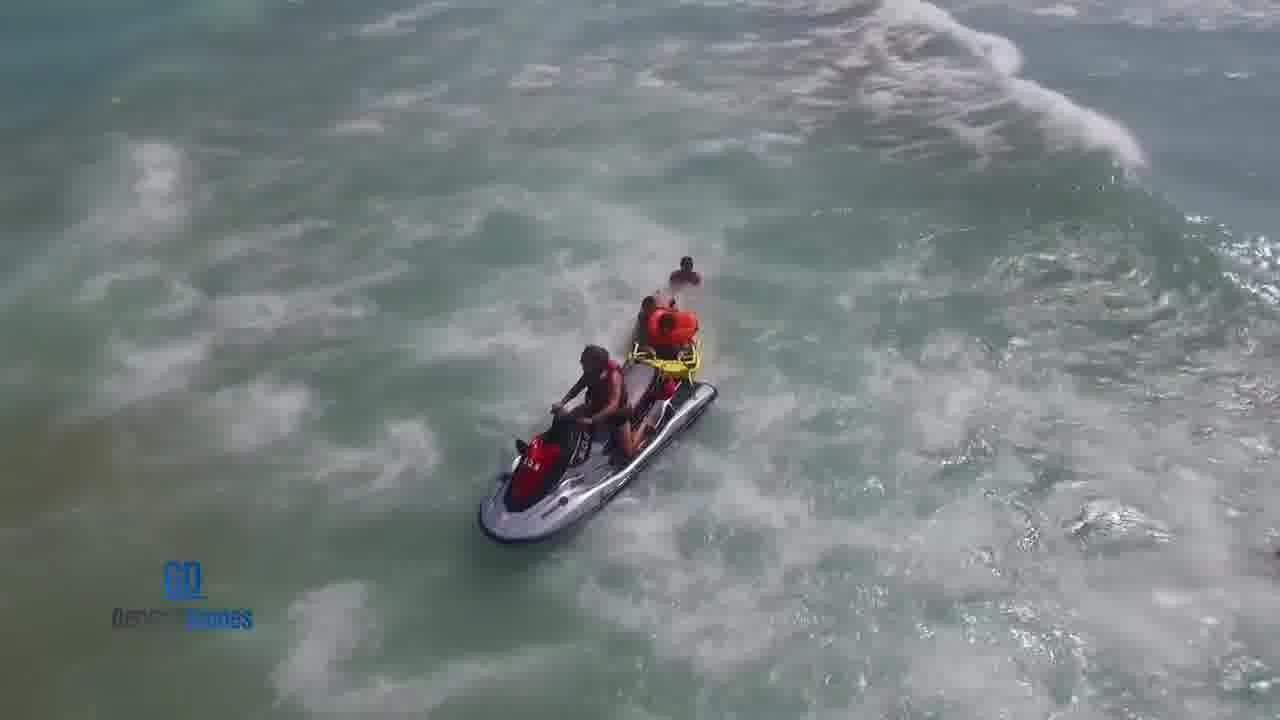human: (652, 244, 729, 285)
